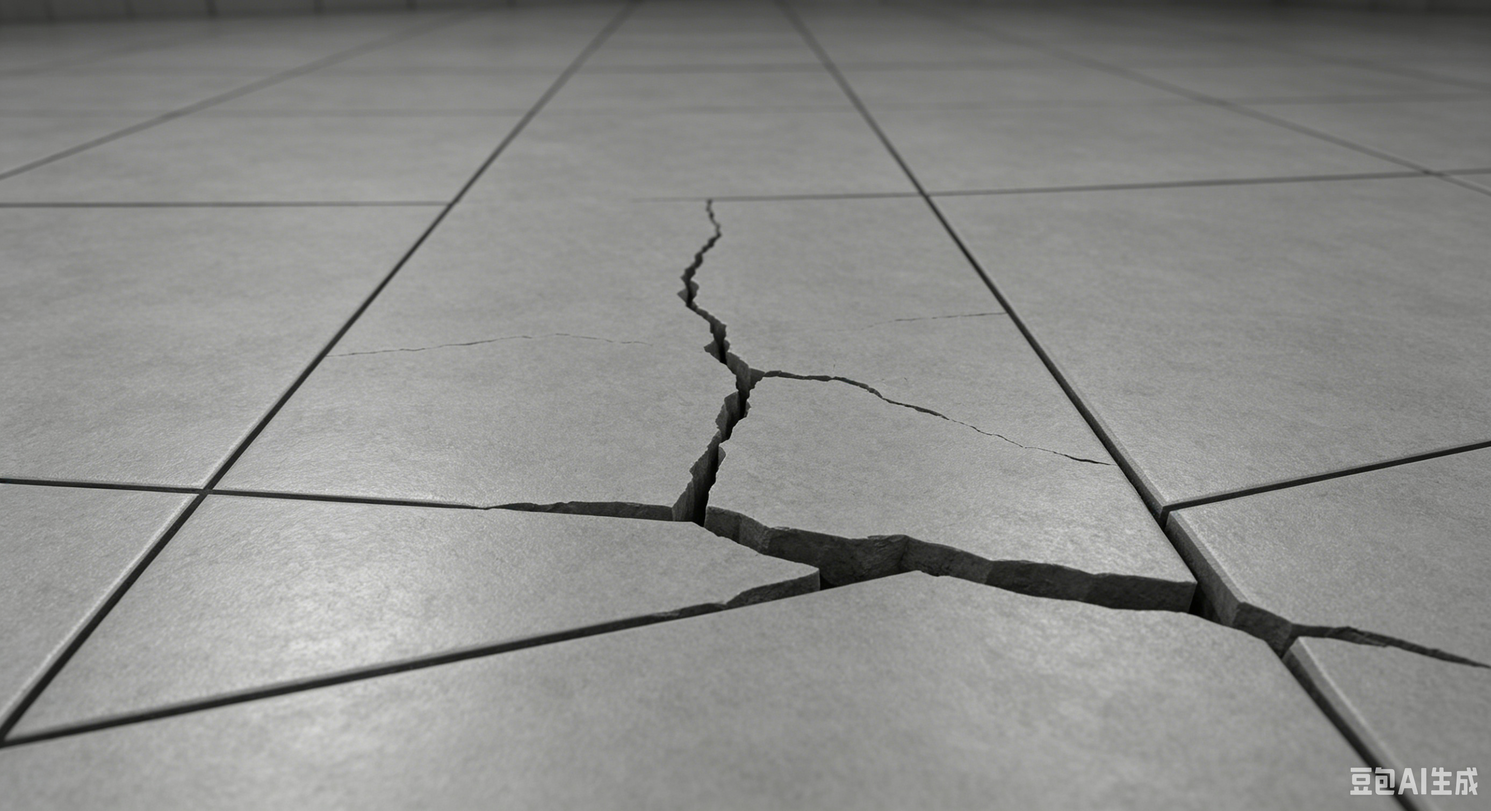floor_defect: (779, 505, 1333, 667), (778, 354, 1113, 476), (658, 184, 770, 545), (701, 513, 833, 635), (464, 460, 650, 539), (323, 326, 601, 372), (1333, 602, 1477, 668), (879, 294, 1036, 345)
